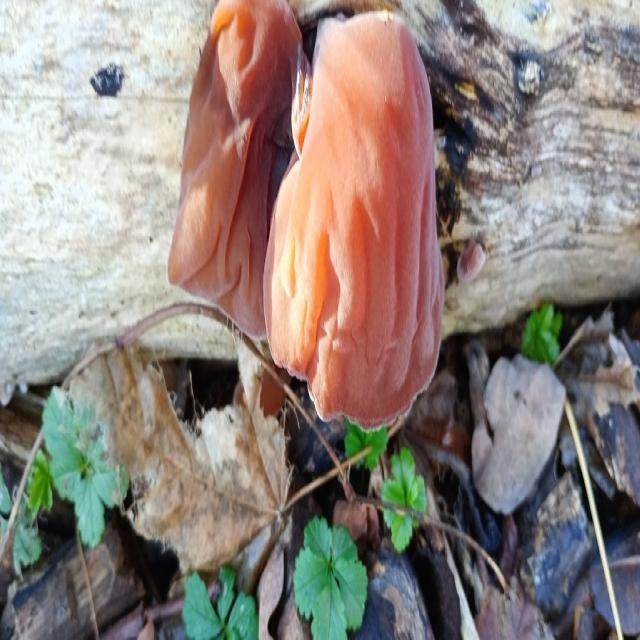Matang: (260, 11, 450, 432), (166, 0, 306, 343)
primordia: (458, 235, 487, 284)
